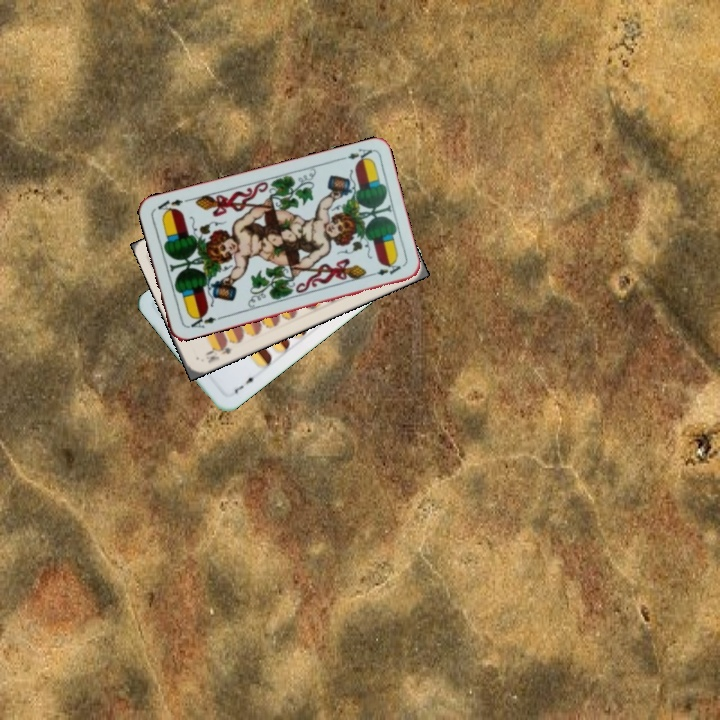E10: (202, 337, 235, 366)
E7: (230, 371, 261, 396)
EA: (334, 144, 375, 166), (183, 310, 223, 331)
